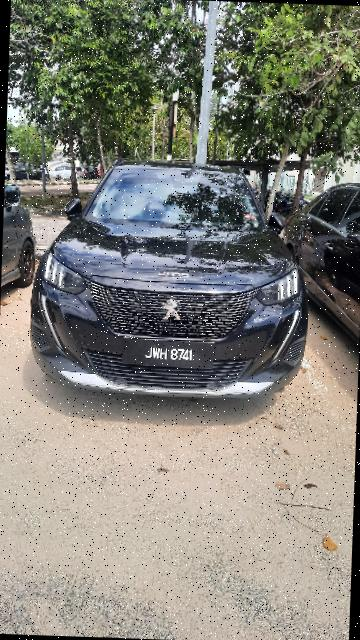License_Plate: (121, 339, 220, 372)
car: (27, 148, 317, 406)
